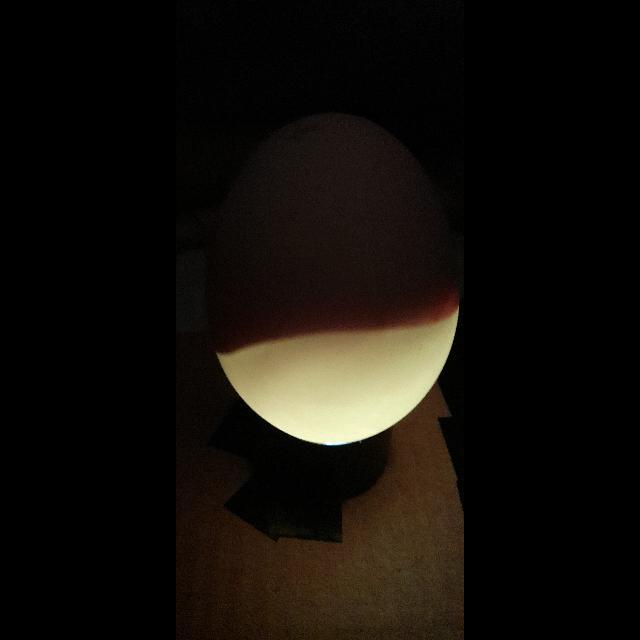Fertile: (202, 117, 463, 453)
